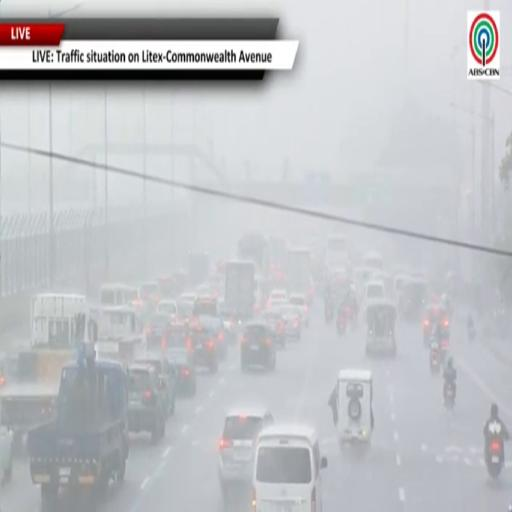car: (252, 424, 327, 511), (218, 407, 273, 502), (127, 364, 167, 442), (135, 351, 176, 415), (165, 325, 196, 396), (241, 320, 276, 371), (195, 315, 227, 359), (189, 325, 218, 373), (146, 313, 173, 349), (261, 309, 285, 347), (280, 303, 301, 340), (289, 294, 309, 326), (139, 281, 161, 308), (192, 295, 217, 317), (157, 299, 178, 318), (177, 299, 193, 323), (267, 290, 288, 308)
motorcycle: (486, 437, 503, 478), (444, 382, 455, 410), (430, 347, 440, 374), (345, 307, 357, 329), (439, 339, 449, 364), (337, 312, 346, 335), (325, 306, 333, 324), (468, 326, 476, 342)
truck: (27, 344, 128, 511), (0, 294, 97, 449), (94, 305, 144, 365), (224, 261, 255, 321), (237, 232, 267, 273), (287, 248, 311, 294), (188, 252, 211, 286)
